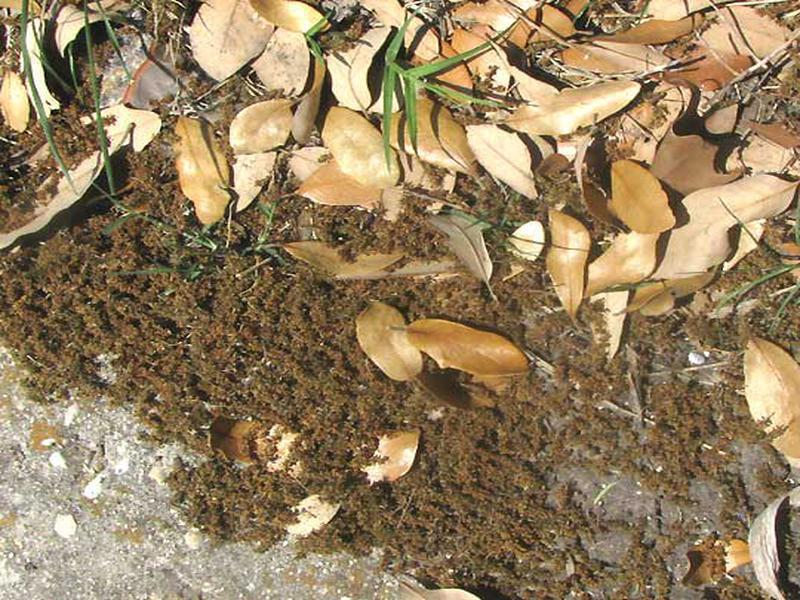leaf: (653, 172, 800, 288), (383, 303, 539, 381), (552, 22, 712, 84), (166, 102, 239, 232), (494, 79, 645, 141), (183, 1, 290, 85), (736, 325, 800, 464), (458, 118, 547, 208), (315, 103, 402, 191), (351, 297, 429, 390), (540, 204, 592, 334), (605, 155, 682, 239), (1, 64, 40, 144)
